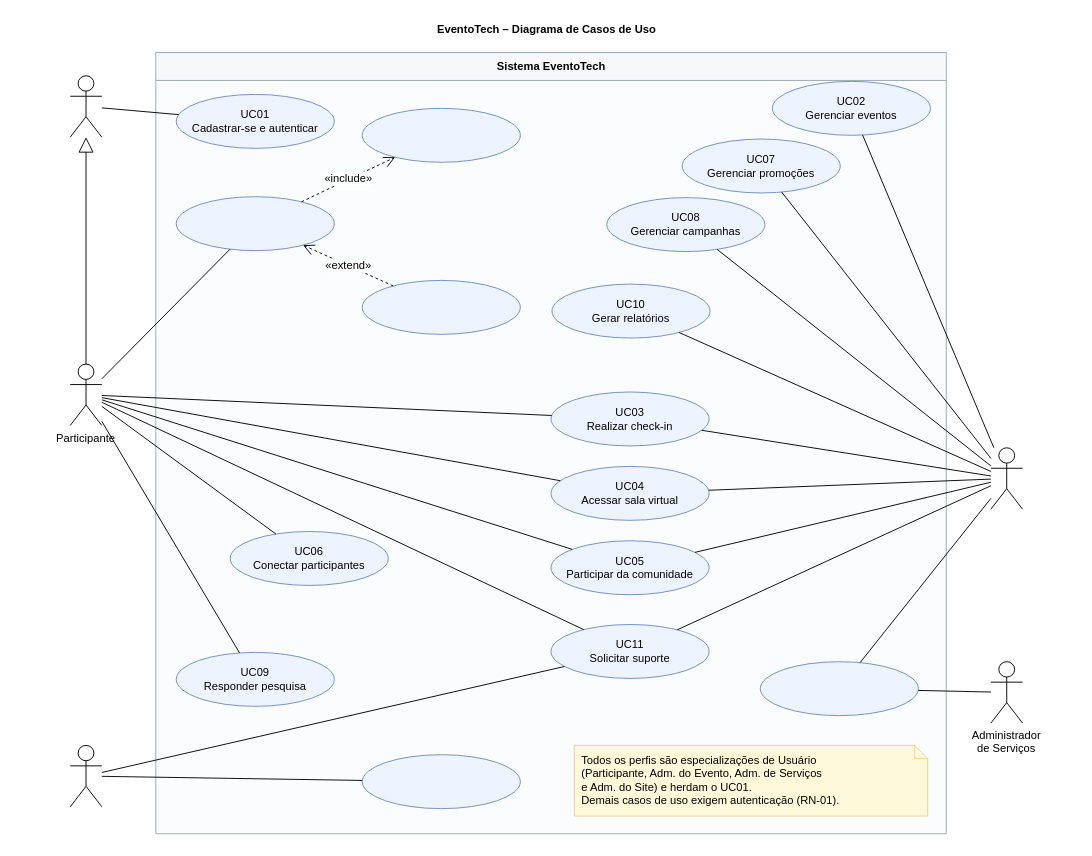
This 1092x856 diagram has some shape labels left out. Each missing label, with the centre of its shape:
Administrador do Evento: (1006,478)
Administrador do Site: (85,775)
UC12 Inscrever-se em evento: (254,223)
UC12.1 Emitir ingresso (QR): (440,134)
UC12.2 Aplicar cupom: (440,306)
UC13 Ofertar serviços: (838,688)
UC14 Administrar plataforma: (440,781)
Usuário: (85,106)
